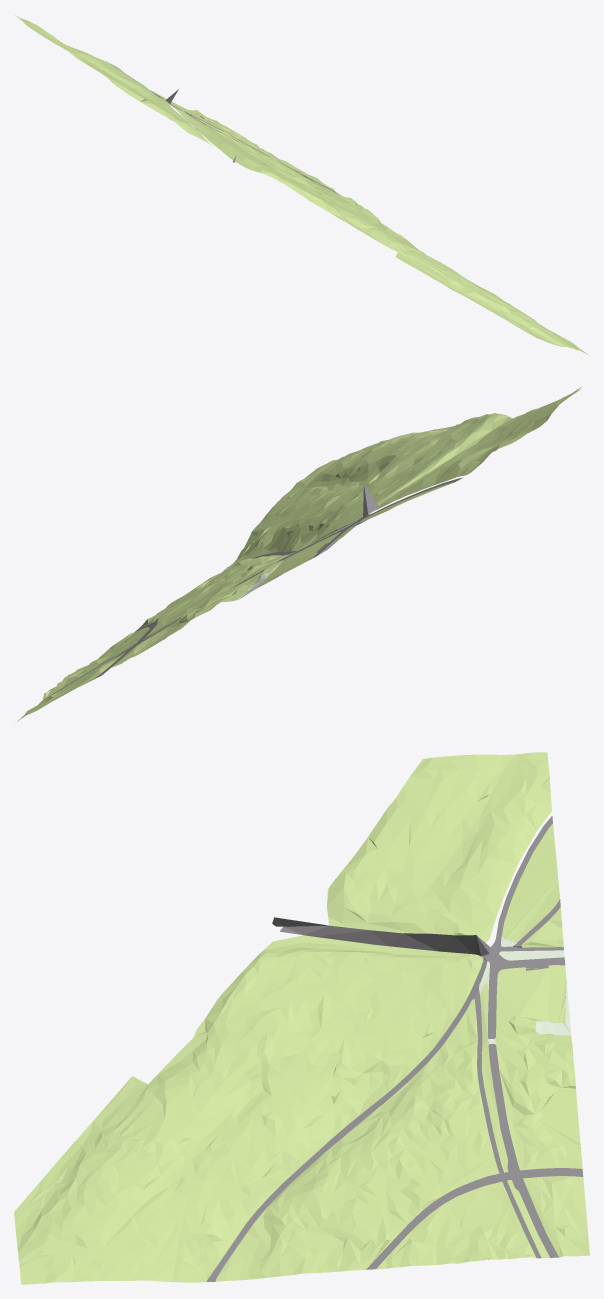
3 renders of one model, top to bottom at view 1: azimuth 30°, elevation 25°; view 2: azimuth 150°, elevation 25°; view 3: azimuth 270°, elevation 25°, orthographic. The views are drawn at different scales.
Bounding box in the file's own units: 218 × 160 × 252.
